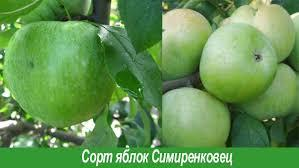Apple: (4, 21, 124, 126), (199, 23, 277, 104), (145, 8, 214, 82), (152, 86, 230, 147), (225, 4, 294, 65), (240, 60, 299, 122), (282, 12, 299, 73)
